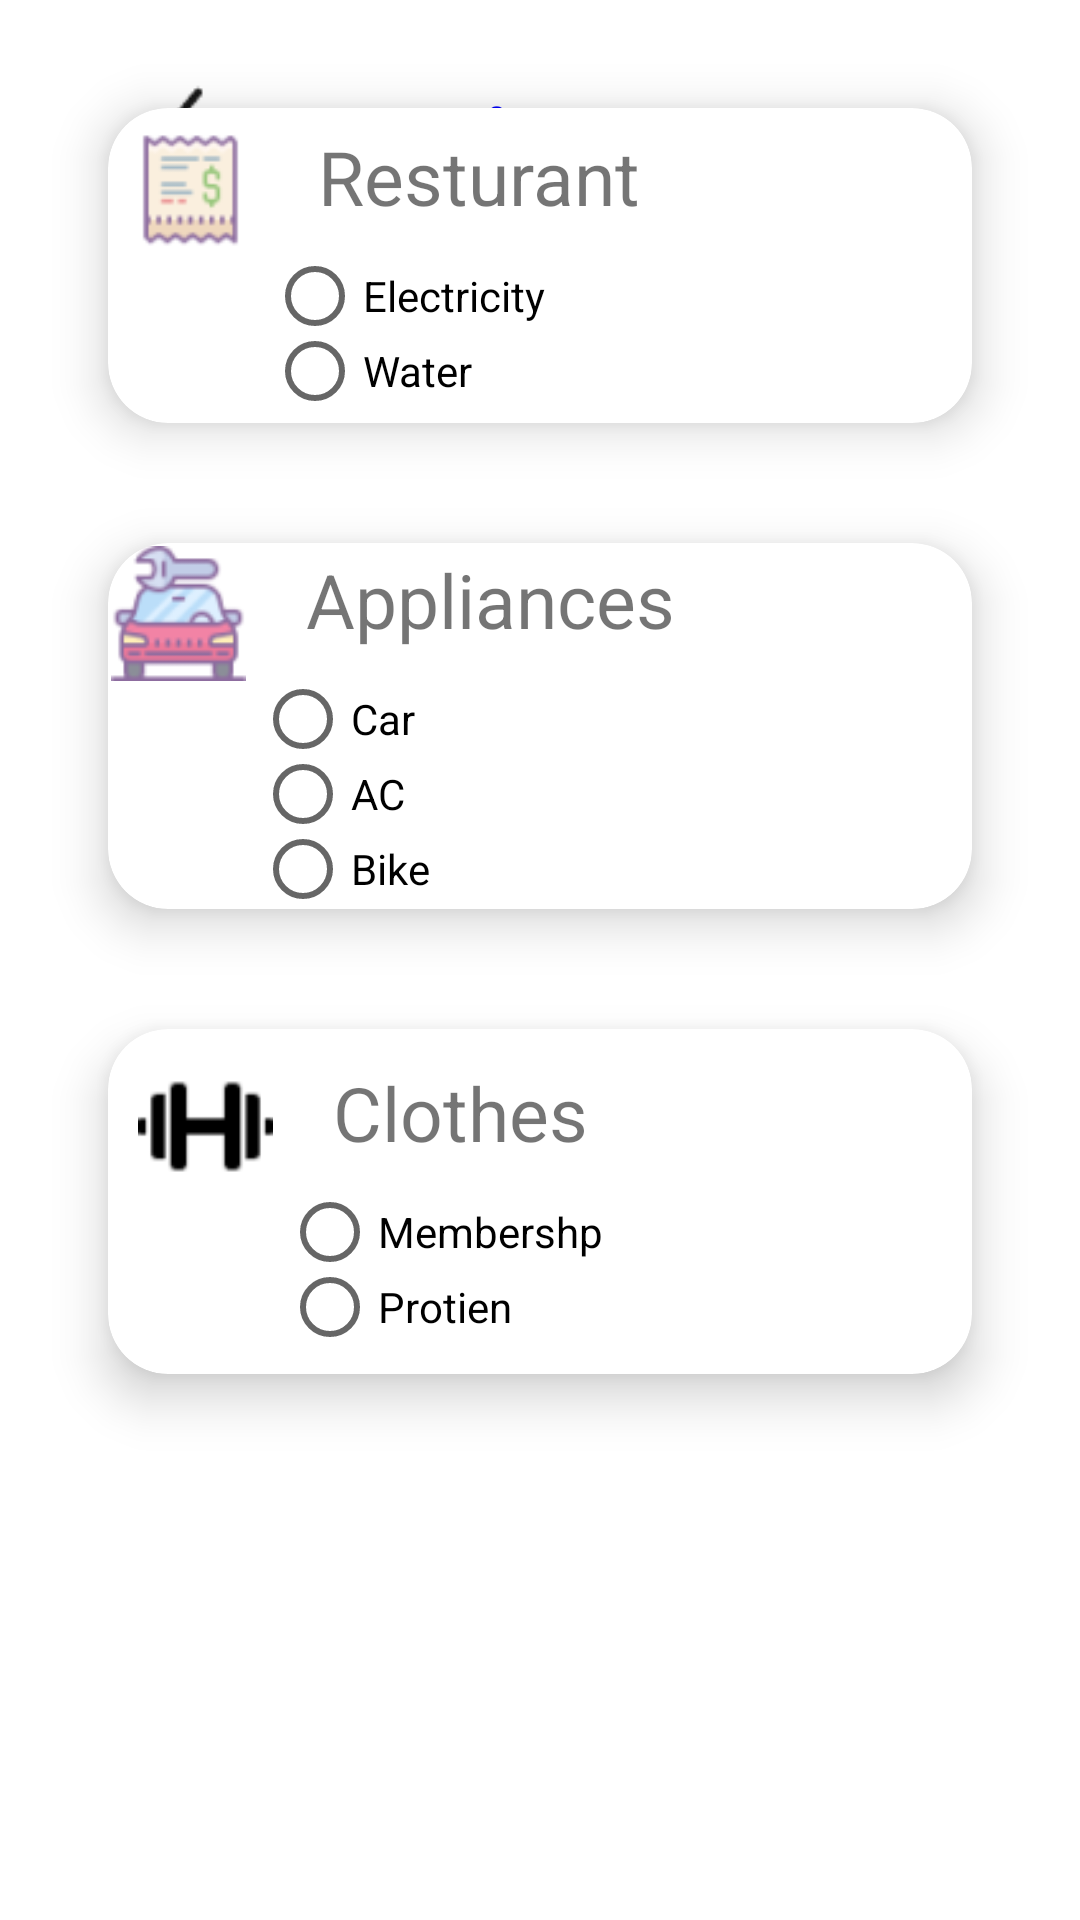

Screen size 1080px x 1920px. Icon name, then its center in pixels as [x,y]:
gym: [205,1126]
servicing: [178,613]
